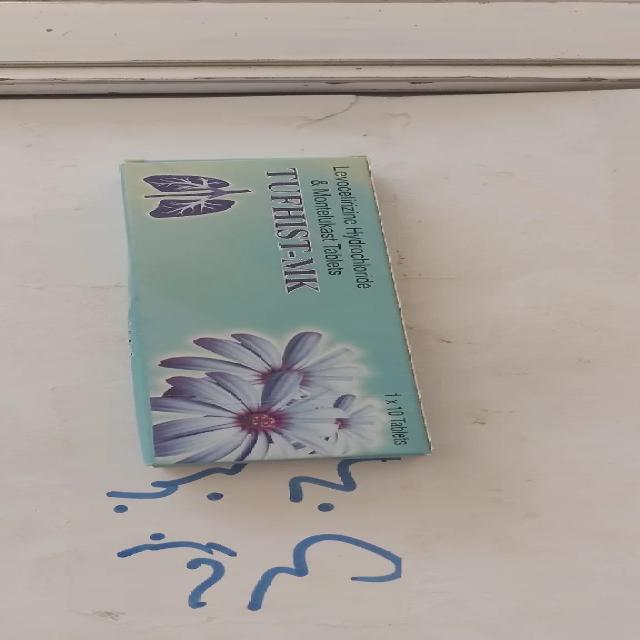drug-name: (257, 165, 328, 294)
